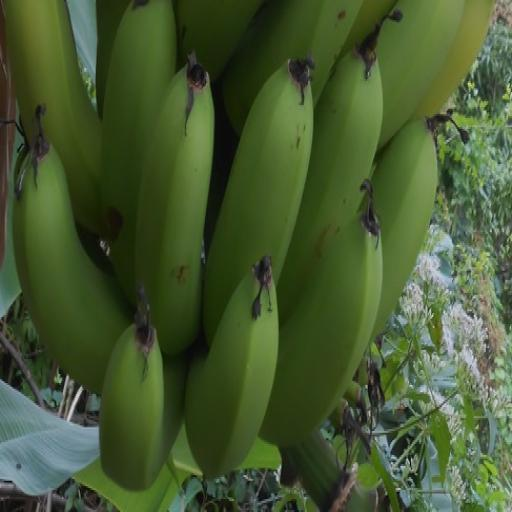banana-unripe: (0, 0, 496, 485)
